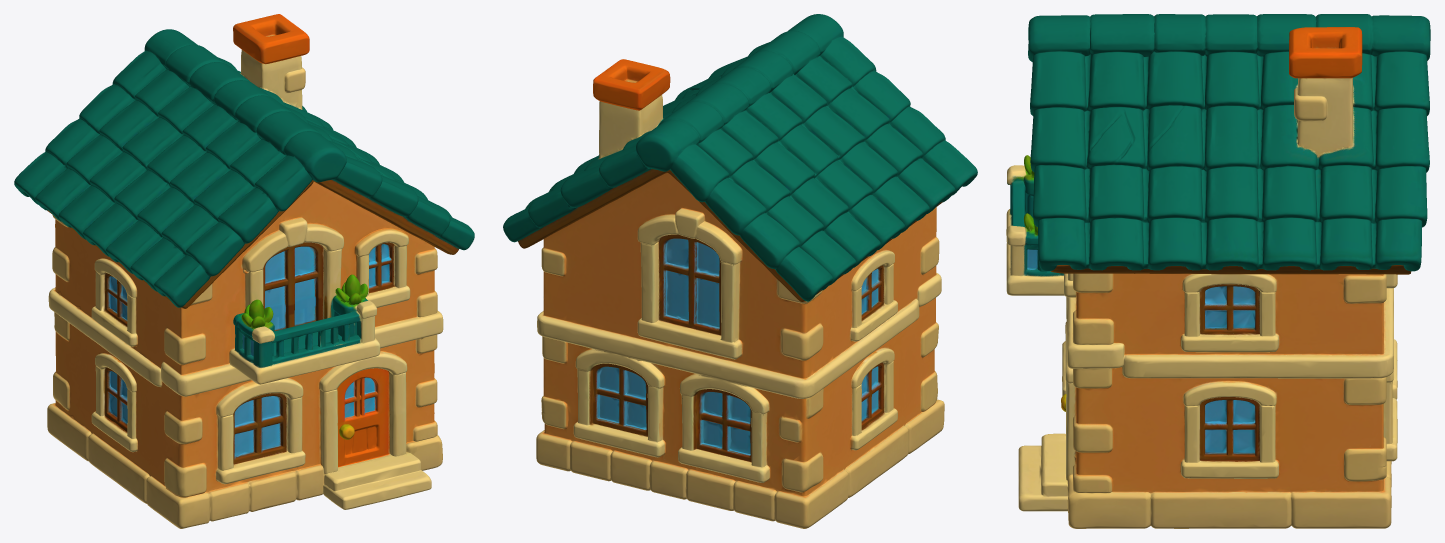
Rendered from CuteHouse.fbx.
3 renders of one model, left to right at view 1: azimuth 30°, elevation 25°; view 2: azimuth 150°, elevation 25°; view 3: azimuth 270°, elevation 25°, orthographic. The views are drawn at different scales.
Visible parts, largest first — view 1: tripo_node_36032333-80ac-44e2-a7e4-d574cc93badf; view 2: tripo_node_36032333-80ac-44e2-a7e4-d574cc93badf; view 3: tripo_node_36032333-80ac-44e2-a7e4-d574cc93badf.
Part boxes in pixels (x1,y1,x2,y2): tripo_node_36032333-80ac-44e2-a7e4-d574cc93badf: (14,14,474,528); tripo_node_36032333-80ac-44e2-a7e4-d574cc93badf: (503,14,977,528); tripo_node_36032333-80ac-44e2-a7e4-d574cc93badf: (1006,14,1430,528).
Bounding box in the file's own units: 84.12 × 97.95 × 83.15.
Materials: 1 (1 with a texture image).
